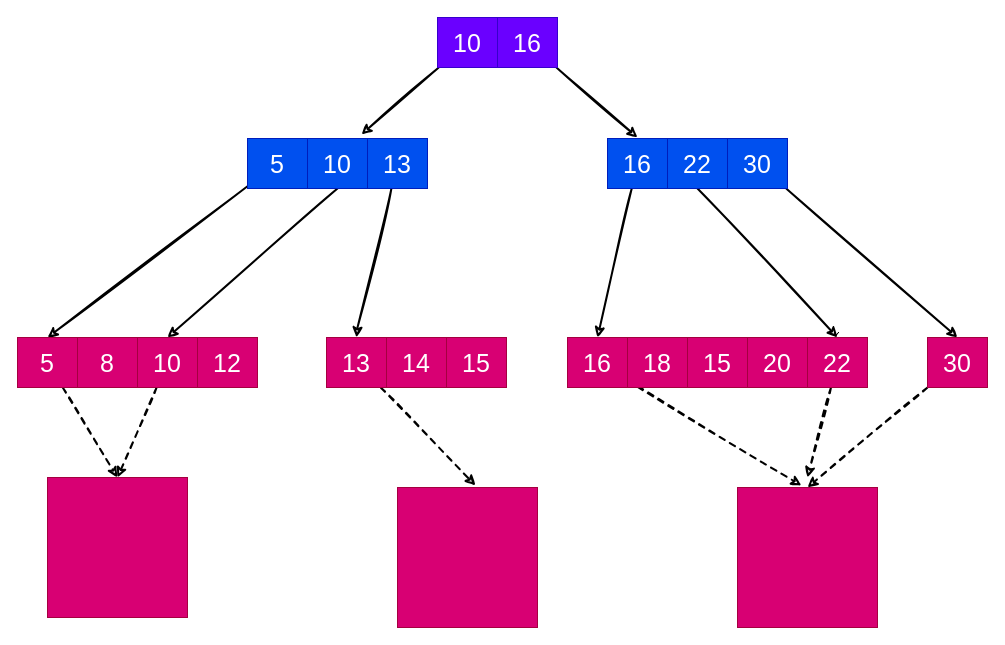
This 1005x645 diagram has some shape labels left out. The shapes that lost their labels are listed below. From the top down, each one's centre as x and y in pixels, then its label:
At point 117,547: "Data 1 Section 1.1 Section 1.2 Section 1.3 Section 2.1 Section 2.2 Section 2.3".
At point 467,557: "Data 2 Section 1.1 Section 1.2 Section 1.3 Section 2.1 Section 2.2 Section 2.3".
At point 807,557: "Data 3 Section 1.1 Section 1.2 Section 1.3 Section 2.1 Section 2.2 Section 2.3".
